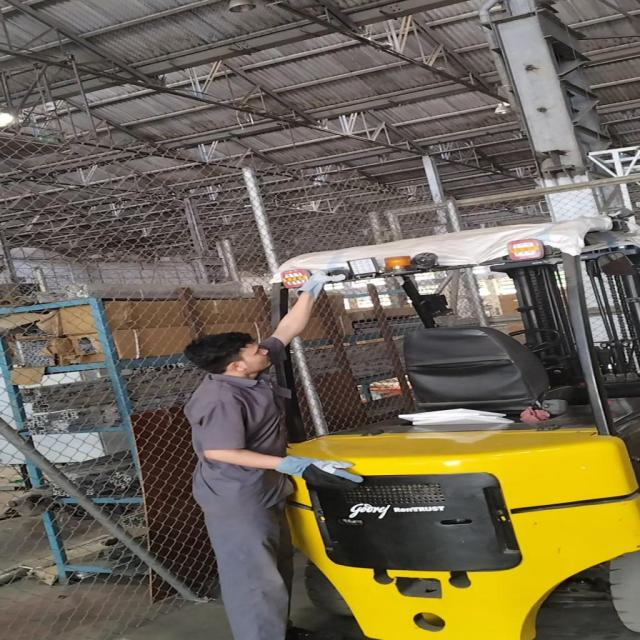Gloves-Detection: (296, 268, 350, 302)
